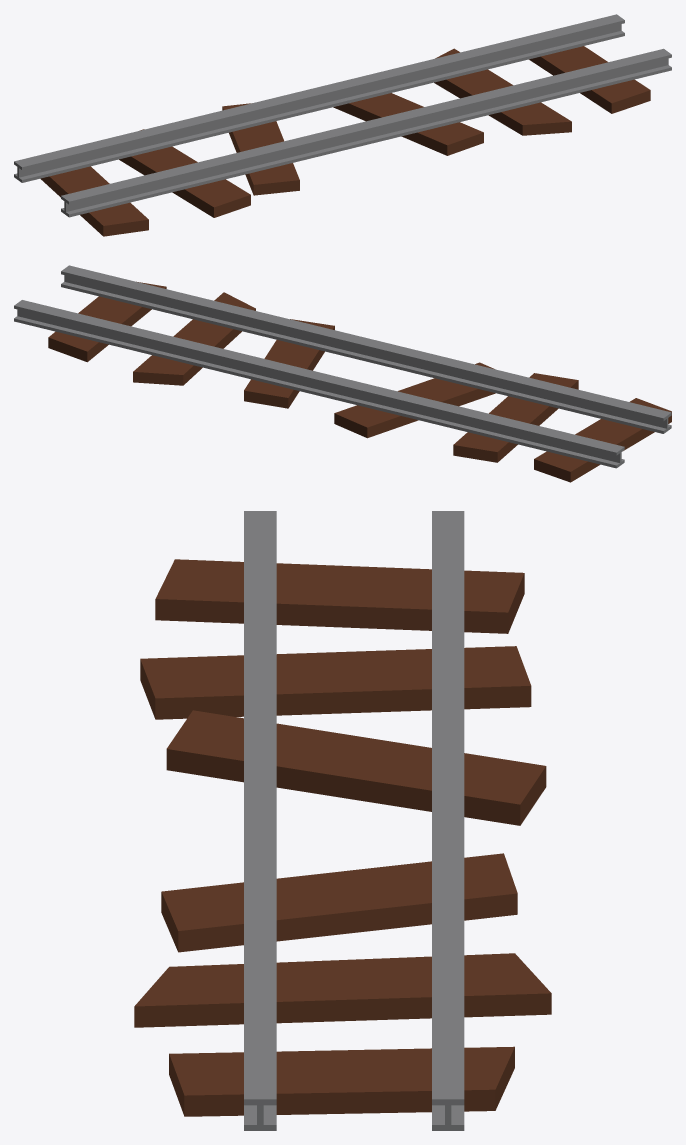
Rendered from rail_1.fbx.
3 renders of one model, top to bottom at view 1: azimuth 30°, elevation 25°; view 2: azimuth 150°, elevation 25°; view 3: azimuth 270°, elevation 25°, orthographic. The views are drawn at different scales.
Visible parts, largest first — view 1: rail069, planks010; view 2: rail069, planks010; view 3: planks010, rail069.
Part boxes in pixels (x1,y1,x2,y2): rail069: (14, 14, 671, 217); planks010: (40, 46, 650, 236); rail069: (14, 265, 671, 468); planks010: (48, 281, 671, 482); planks010: (134, 559, 551, 1116); rail069: (244, 511, 464, 1130).
Bounding box in the file's own units: 117 × 4.88 × 34.98.
